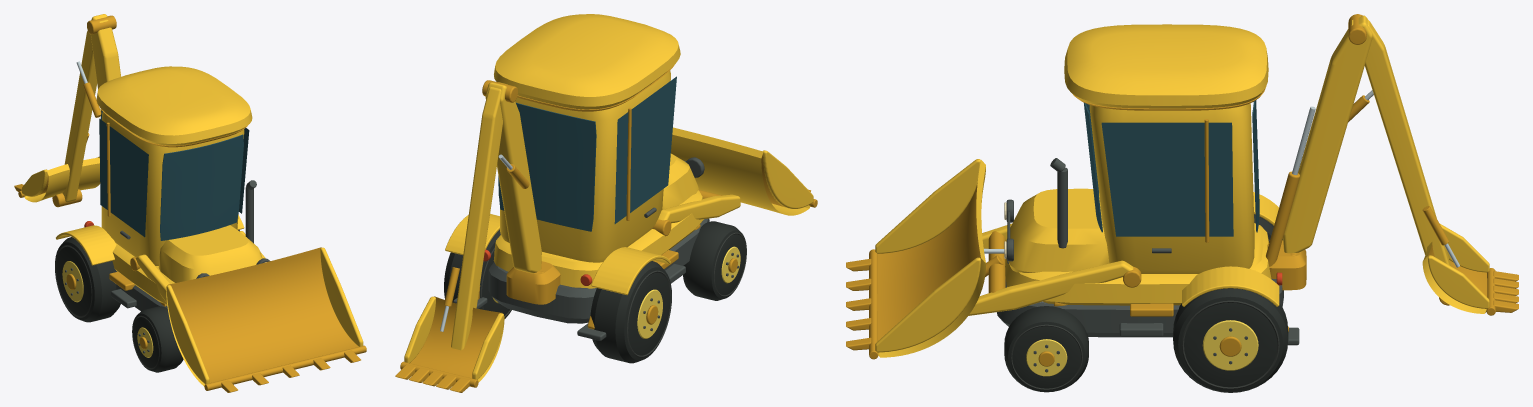
The model's file is dirty.glb.
The picture shows the model from 3 angles, left to right: view 1: azimuth 30°, elevation 25°; view 2: azimuth 150°, elevation 25°; view 3: azimuth 270°, elevation 25°; orthographic projection. The views are drawn at different scales.
Visible parts, largest first — view 1: FrontBucket_curved_scoop, Curved overhanging roof, Windshield_single_curved, Rounded engine cowl, Left_side_window, Cab sculpted shell, Smooth chunky tire_Rear_L, Rear curved descending stick, Smooth chunky tire_Front_L, FrontBucket_shaped_end_cheek.001, FrontBucket_shaped_end_cheek, RearDiggingBucket_curved_scoop (+12 smaller); view 2: Curved overhanging roof, Cab sculpted shell, Rear_window, Left_side_window, Rear curved descending stick, FrontBucket_curved_scoop, Rear tapered main boom, Smooth chunky tire_Rear_L, RearDiggingBucket_curved_scoop, Smooth chunky tire_Front_L, Low rounded chassis, Yellow body saddle (+14 smaller); view 3: Curved overhanging roof, Right_side_window, Cab sculpted shell, FrontBucket_curved_scoop, Rear tapered main boom, Smooth chunky tire_Rear_R, Rounded engine cowl, Rear curved descending stick, Smooth chunky tire_Front_R, Yellow body saddle, FrontBucket_shaped_end_cheek.001, FrontBucket_shaped_end_cheek (+18 smaller).
Boxes of the visible parts, <box> form: FrontBucket_curved_scoop: <box>166,247,358,386</box>; Curved overhanging roof: <box>96,66,252,145</box>; Windshield_single_curved: <box>160,134,243,240</box>; Rounded engine cowl: <box>158,225,262,282</box>; Left_side_window: <box>99,118,148,237</box>; Cab sculpted shell: <box>101,112,244,265</box>; Smooth chunky tire_Rear_L: <box>55,237,120,322</box>; Rear curved descending stick: <box>62,19,108,202</box>; Smooth chunky tire_Front_L: <box>132,306,183,372</box>; FrontBucket_shaped_end_cheek.001: <box>320,247,363,346</box>; FrontBucket_shaped_end_cheek: <box>166,285,209,384</box>; RearDiggingBucket_curved_scoop: <box>24,157,100,202</box>; Curved overhanging roof: <box>494,14,680,109</box>; Cab sculpted shell: <box>500,71,670,262</box>; Rear_window: <box>499,102,596,231</box>; Left_side_window: <box>614,76,676,223</box>; Rear curved descending stick: <box>451,82,507,350</box>; FrontBucket_curved_scoop: <box>671,127,810,215</box>; Rear tapered main boom: <box>485,82,541,273</box>; Smooth chunky tire_Rear_L: <box>590,261,671,363</box>; RearDiggingBucket_curved_scoop: <box>410,296,504,381</box>; Smooth chunky tire_Front_L: <box>683,221,746,300</box>; Low rounded chassis: <box>488,218,709,323</box>; Yellow body saddle: <box>493,190,703,288</box>; Curved overhanging roof: <box>1064,24,1268,108</box>; Right_side_window: <box>1101,122,1233,236</box>; Cab sculpted shell: <box>1089,103,1254,273</box>; FrontBucket_curved_scoop: <box>877,160,985,357</box>; Rear tapered main boom: <box>1283,15,1372,253</box>; Smooth chunky tire_Rear_R: <box>1173,288,1288,392</box>; Rounded engine cowl: <box>1008,188,1109,272</box>; Rear curved descending stick: <box>1351,20,1451,266</box>; Smooth chunky tire_Front_R: <box>1004,306,1088,392</box>; Yellow body saddle: <box>1005,223,1271,305</box>; FrontBucket_shaped_end_cheek.001: <box>875,257,980,352</box>; FrontBucket_shaped_end_cheek: <box>875,159,980,253</box>.
Size of the model in its own units: 3.33 by 4.98 by 9.22.
